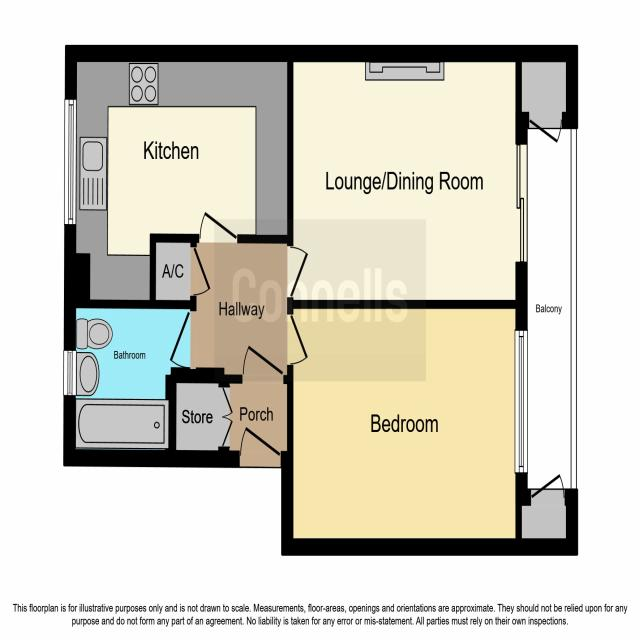DOOR: (238, 425, 282, 468), (166, 309, 197, 370), (241, 343, 285, 384), (198, 211, 238, 244), (287, 312, 310, 366), (287, 244, 309, 300)
ROOM: (287, 44, 528, 309), (281, 299, 528, 556), (63, 45, 294, 310)
SLIDING DOOR: (514, 140, 529, 265)
WINDOW: (514, 329, 529, 475), (63, 98, 77, 226), (63, 350, 78, 397)
